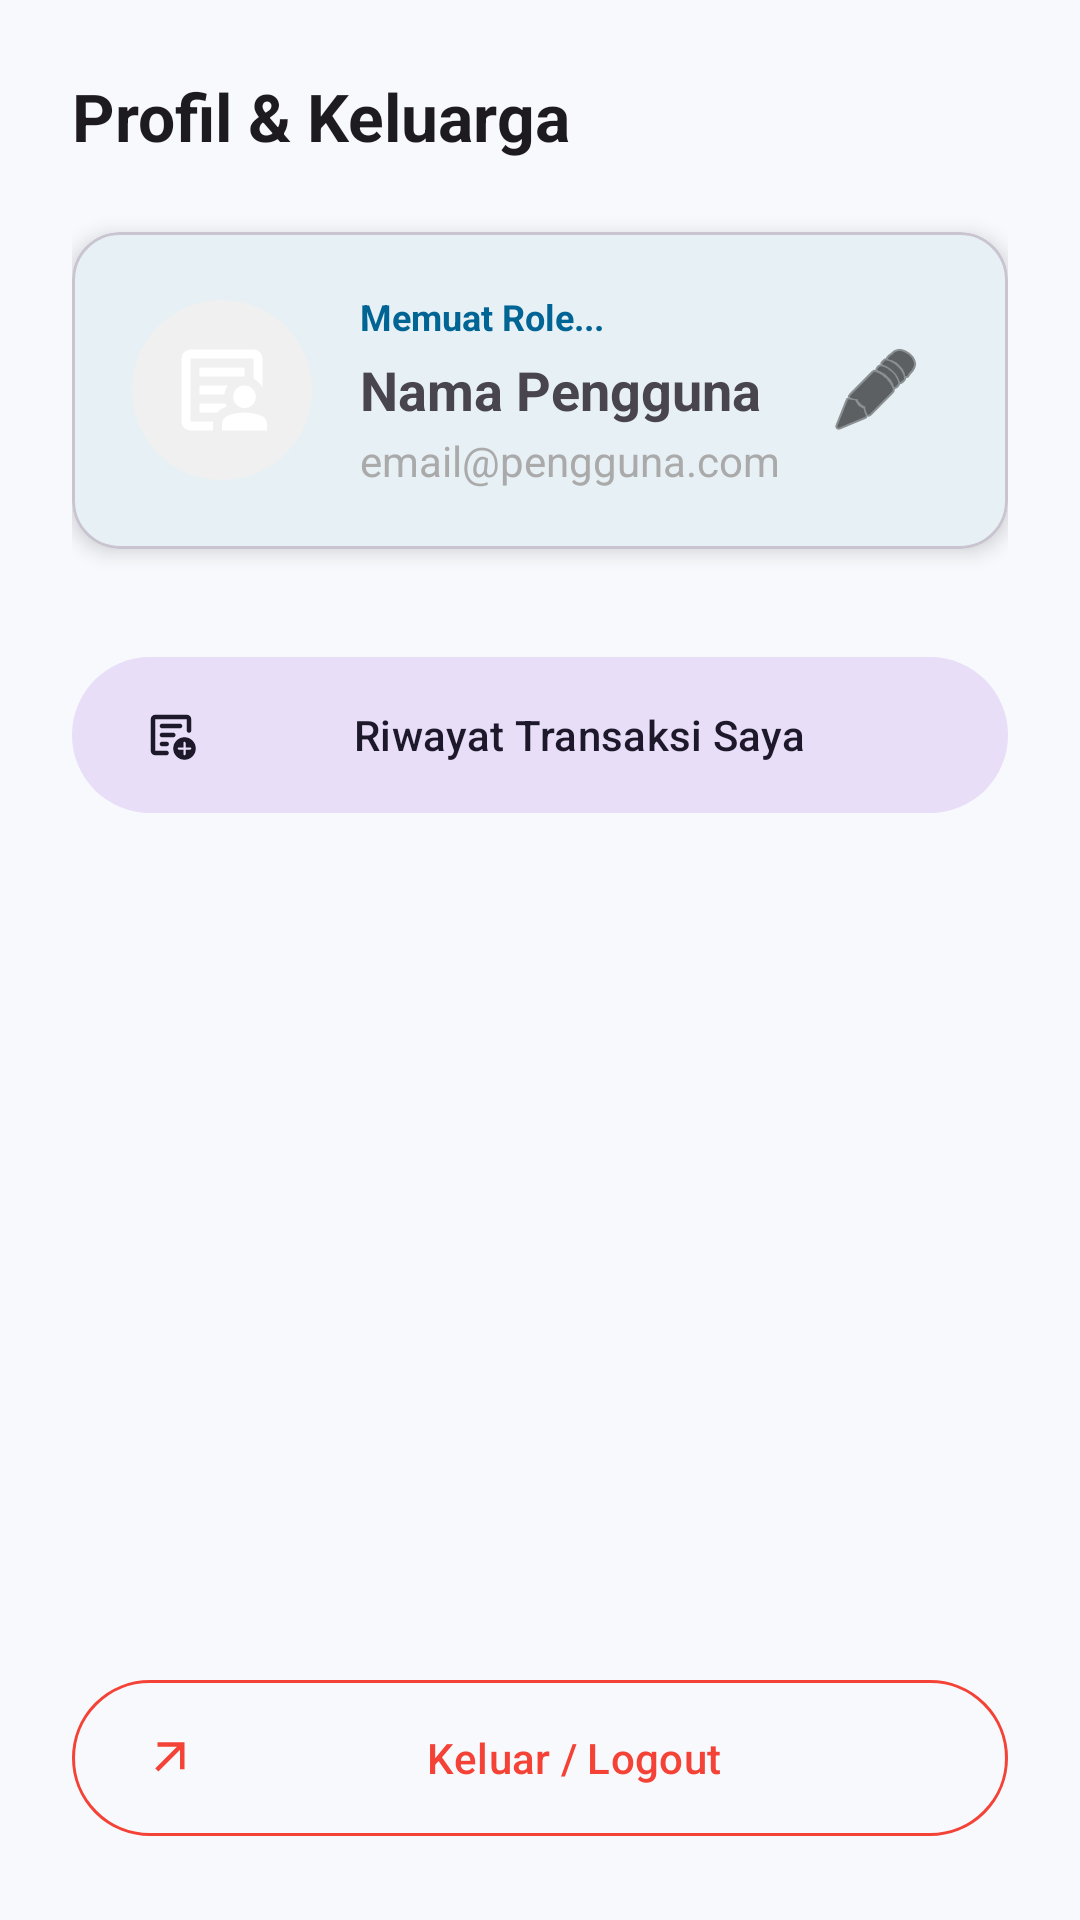

Locate icon controls on the screen. Image size 1080px x 1920px, boxes as (x1, y1, x2, y2).
edit: (835, 349, 916, 430)
